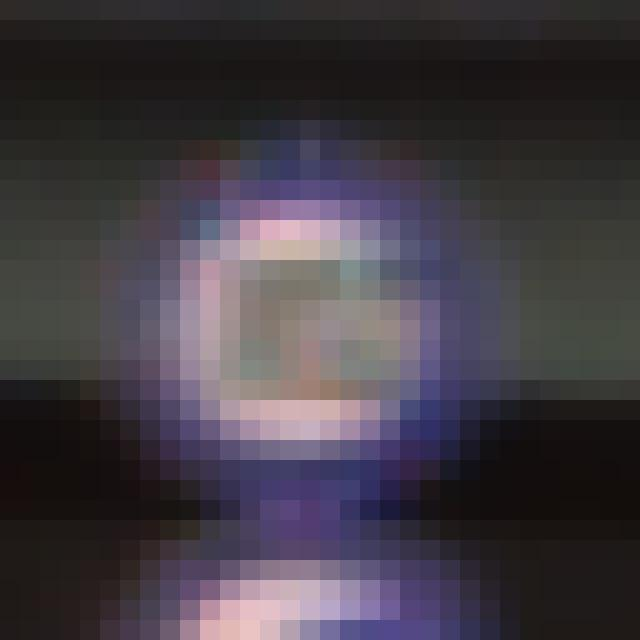SPEED LIMIT 120: (125, 161, 488, 507)
